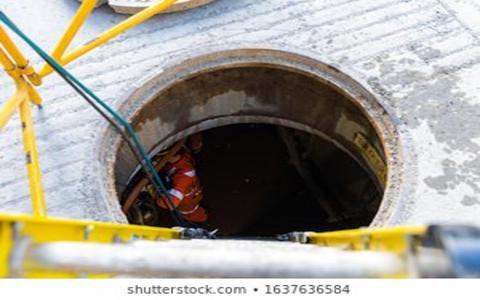open manhole: (95, 52, 440, 230)
